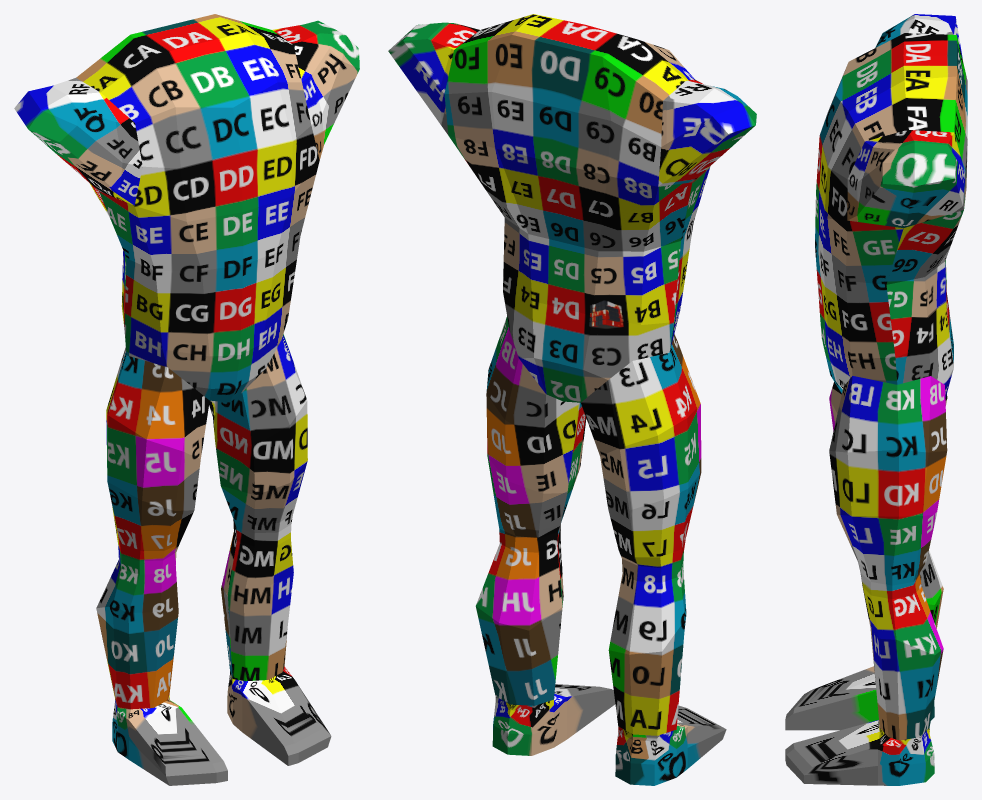
File: humanoid.fbx
3 renders of one model, left to right at view 1: azimuth 30°, elevation 25°; view 2: azimuth 150°, elevation 25°; view 3: azimuth 270°, elevation 25°, orthographic. The views are drawn at different scales.
Visible parts, largest first — view 1: Cube; view 2: Cube; view 3: Cube.
Part boxes in pixels (left/top/right/bottom): Cube: left=14, top=14, right=359, bottom=785; Cube: left=388, top=14, right=756, bottom=785; Cube: left=785, top=14, right=967, bottom=785.
Bounding box in the file's own units: 2.58 × 5.12 × 1.23.
Materials: 1 (1 with a texture image).
